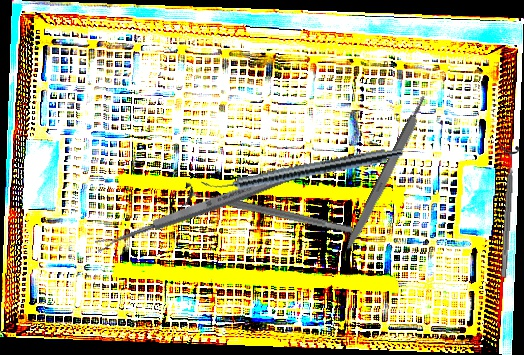Fixation Ring: (181, 181, 355, 244), (493, 145, 521, 278)
Handpiece: (200, 141, 404, 199)
Scalpel Handle: (340, 93, 433, 257)
Surgical Spoon: (93, 167, 299, 253)
